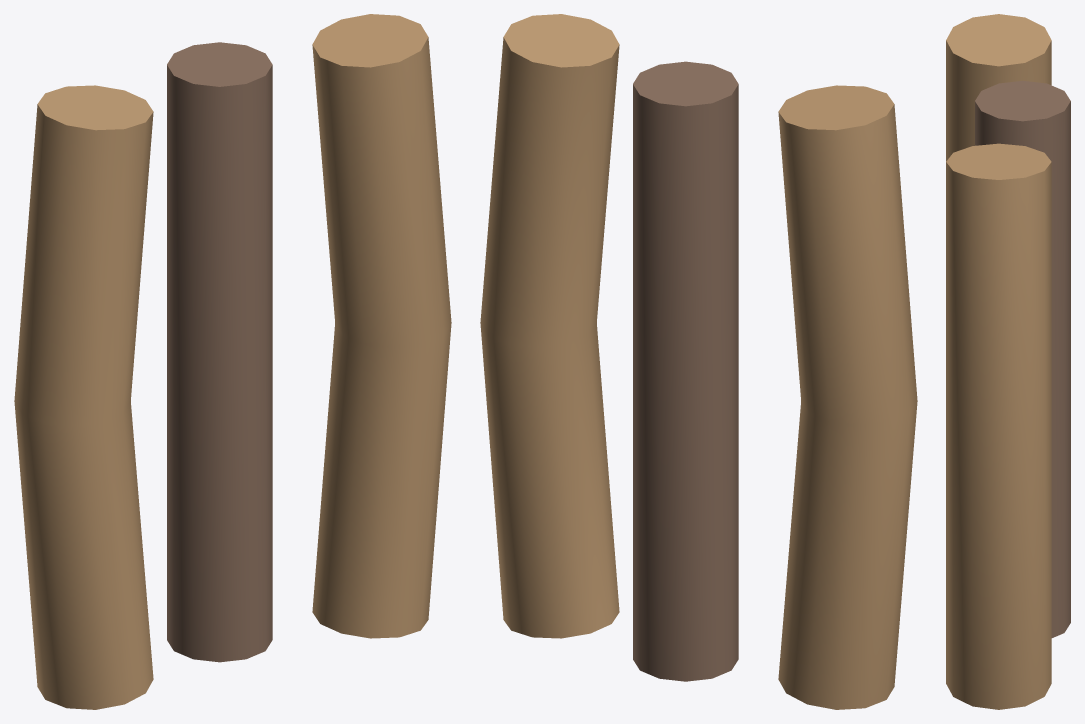
The model's file is conch_ox_furrow.glb.
3 renders of one model, left to right at view 1: azimuth 30°, elevation 25°; view 2: azimuth 150°, elevation 25°; view 3: azimuth 270°, elevation 25°, orthographic. The views are drawn at different scales.
Bounding box in the file's own units: 9.2 × 12.18 × 2.6.
